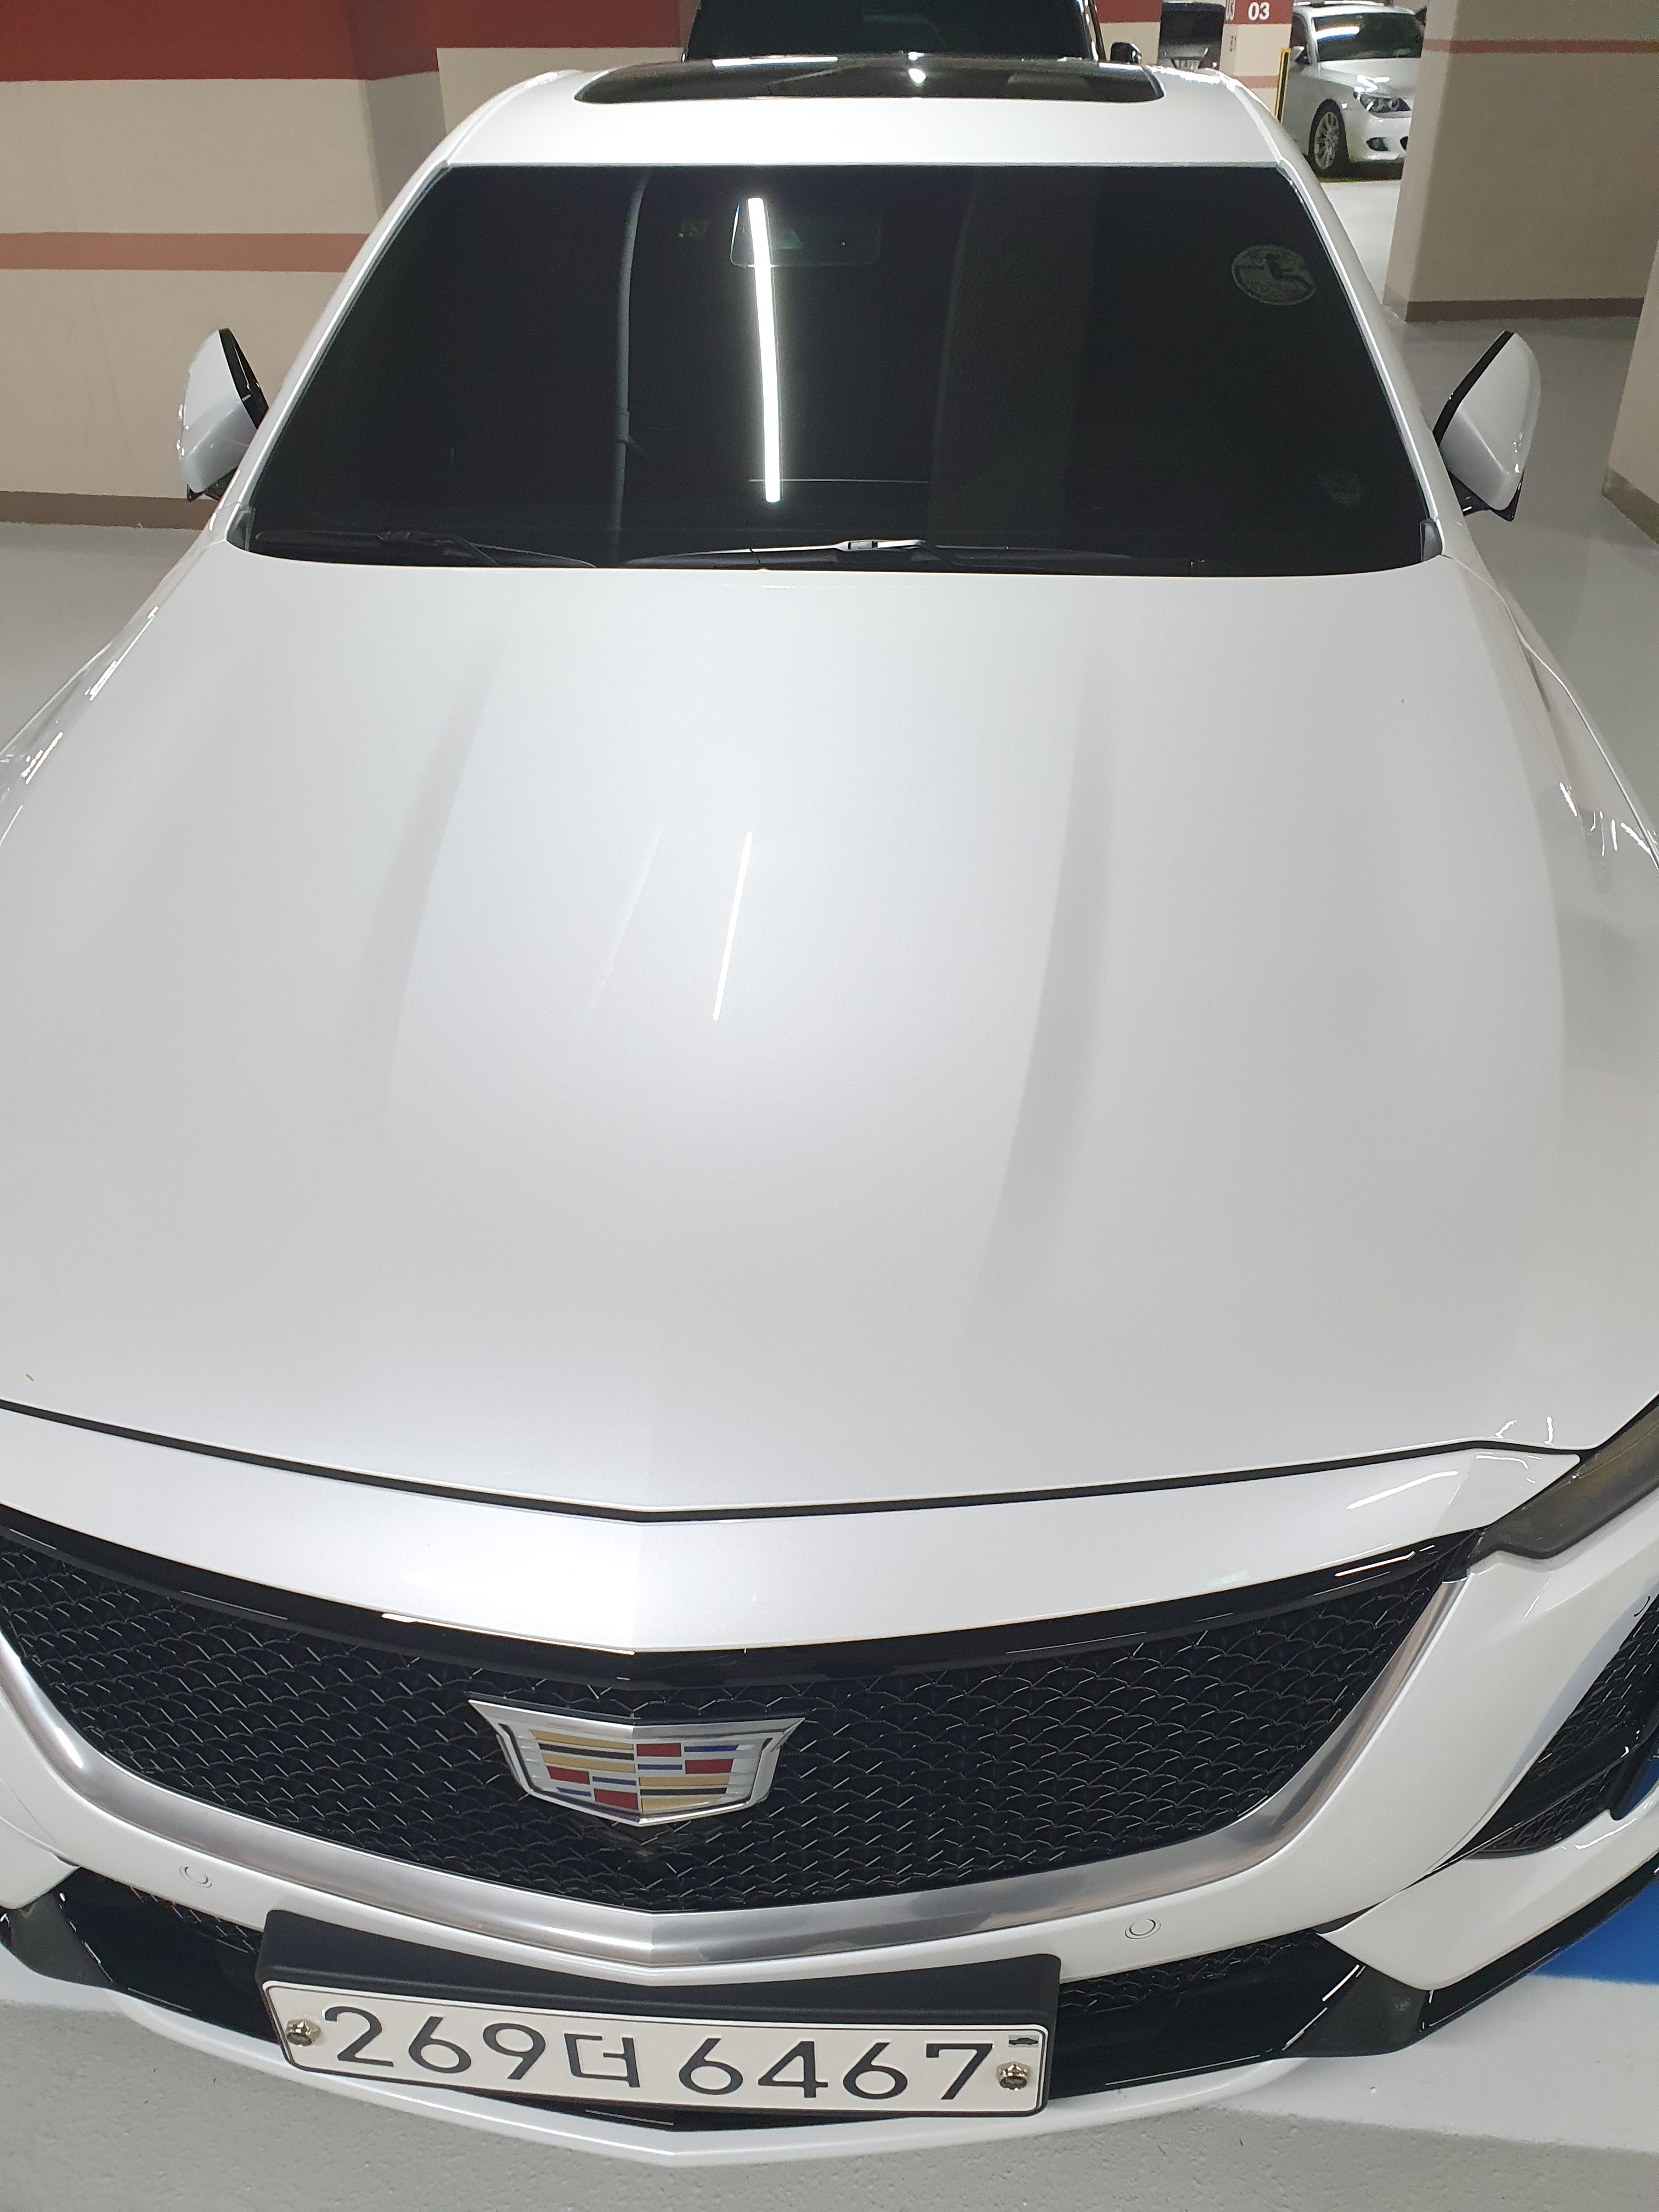apart_parking: (1316, 469, 1371, 510)
disabled_parking: (1225, 237, 1324, 310)
